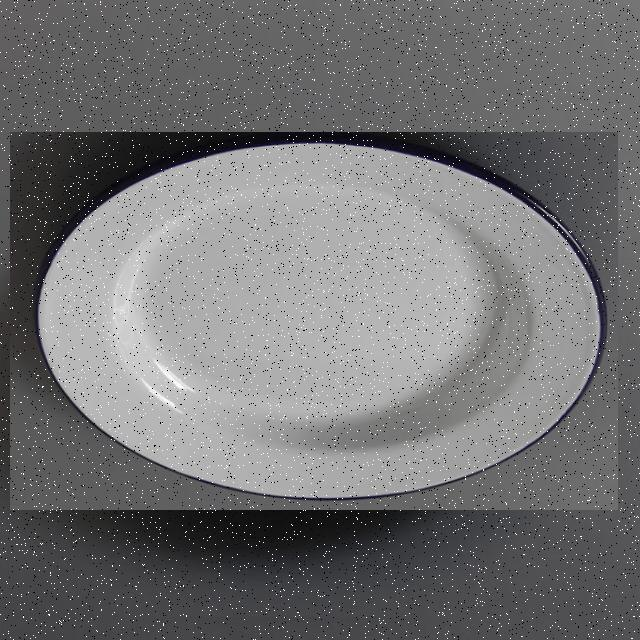plate: (11, 132, 618, 510)
